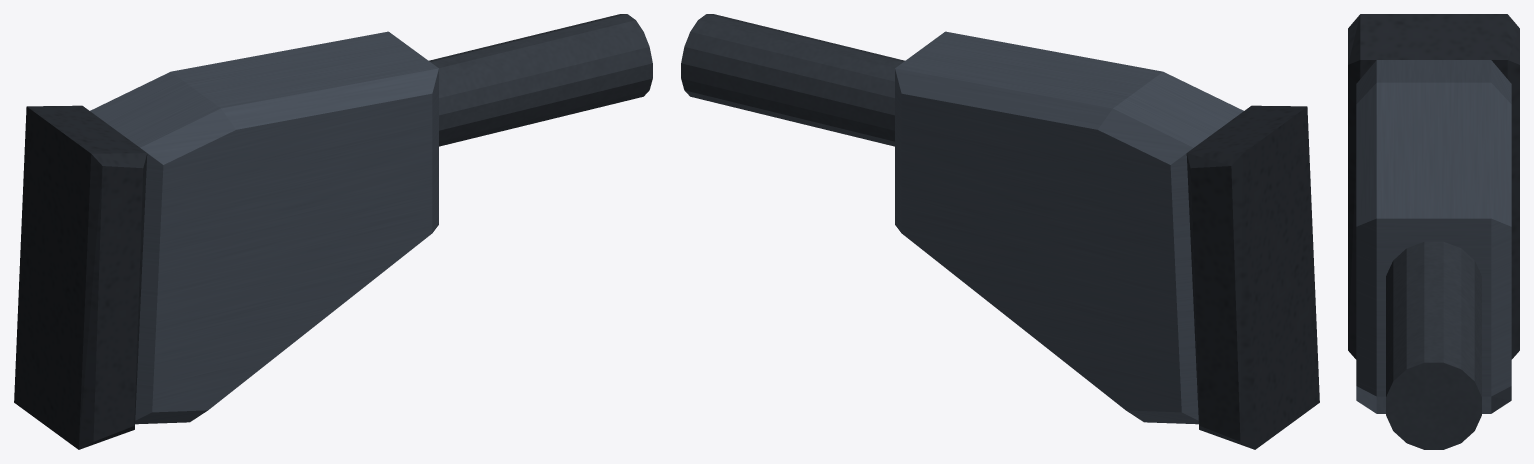
Rendered from stock_collapsible_v2.glb.
The picture shows the model from 3 angles, left to right: view 1: azimuth 30°, elevation 25°; view 2: azimuth 150°, elevation 25°; view 3: azimuth 270°, elevation 25°; orthographic projection. The views are drawn at different scales.
Parts seen in each view (by area): view 1: stock_collapsible_mesh; view 2: stock_collapsible_mesh; view 3: stock_collapsible_mesh.
Boxes of the visible parts, left/top/right/bottom form: stock_collapsible_mesh: left=14, top=14, right=652, bottom=449; stock_collapsible_mesh: left=681, top=14, right=1319, bottom=449; stock_collapsible_mesh: left=1348, top=14, right=1519, bottom=449.
Bounding box in the file's own units: 0.188 × 0.094 × 0.042.
4 materials, 4 textured.
